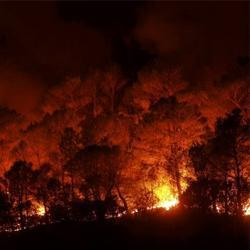fire: (155, 186, 180, 210), (33, 204, 47, 217), (244, 202, 250, 218)
